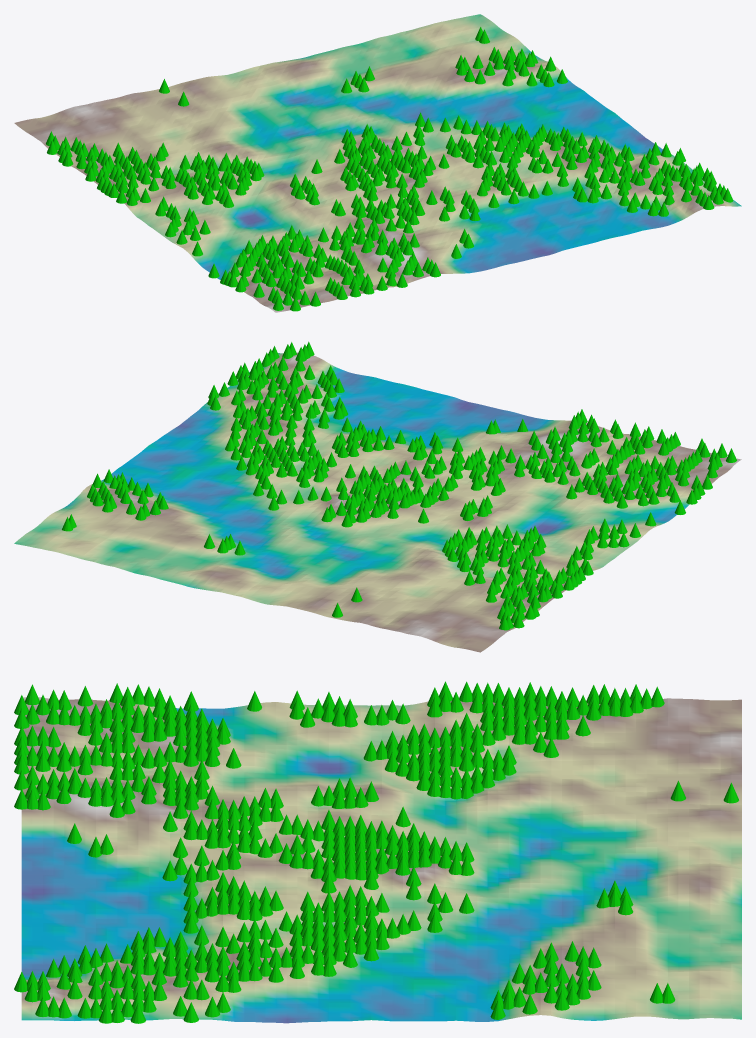
The model's file is 000002_with_tree.glb.
The picture shows the model from 3 angles, top to bottom: view 1: azimuth 30°, elevation 25°; view 2: azimuth 150°, elevation 25°; view 3: azimuth 270°, elevation 25°; orthographic projection. The views are drawn at different scales.
Visible parts, largest first — view 1: terrain, trees; view 2: terrain, trees; view 3: terrain, trees.
Boxes of the visible parts, x1,y1,x2,y2 form: terrain: (14, 14, 741, 312); trees: (46, 27, 733, 311); terrain: (14, 352, 741, 652); trees: (62, 341, 736, 630); terrain: (21, 697, 741, 1023); trees: (14, 681, 738, 1023).
Bounding box in the file's own units: 0.0193 × 0.0009 × 0.0185.
